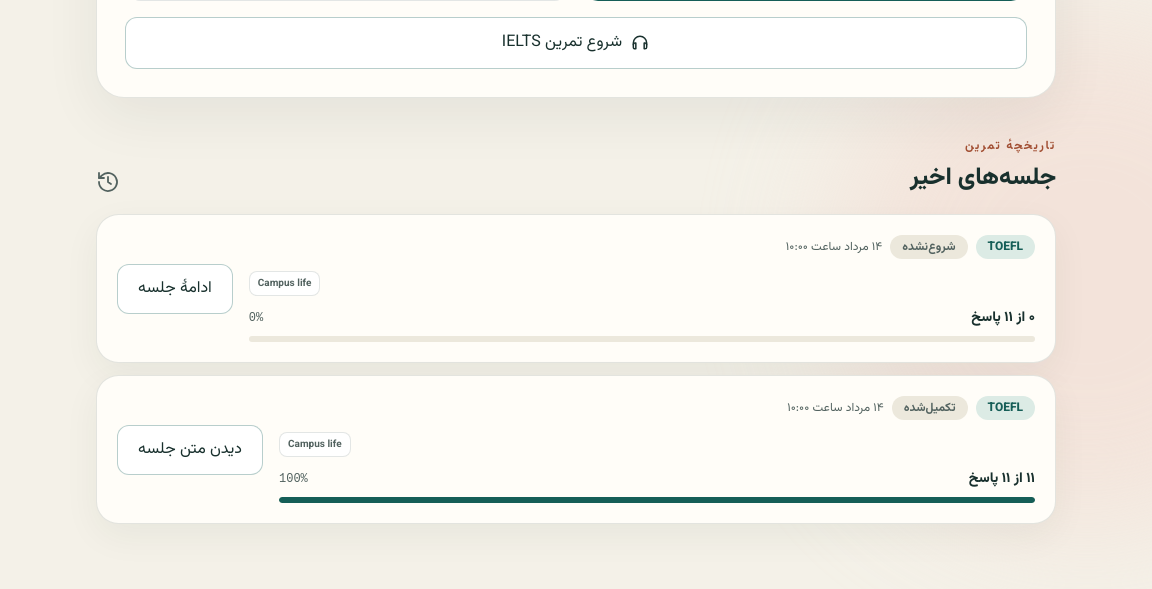
Test: SpeakingPage › resumes in-progress sessions and opens completed text history
The image size is (1152, 589).
(page scrolled)
Click the button "ادامهٔ جلسه" at (175, 288), box [117,264,233,314]
(page scrolled)
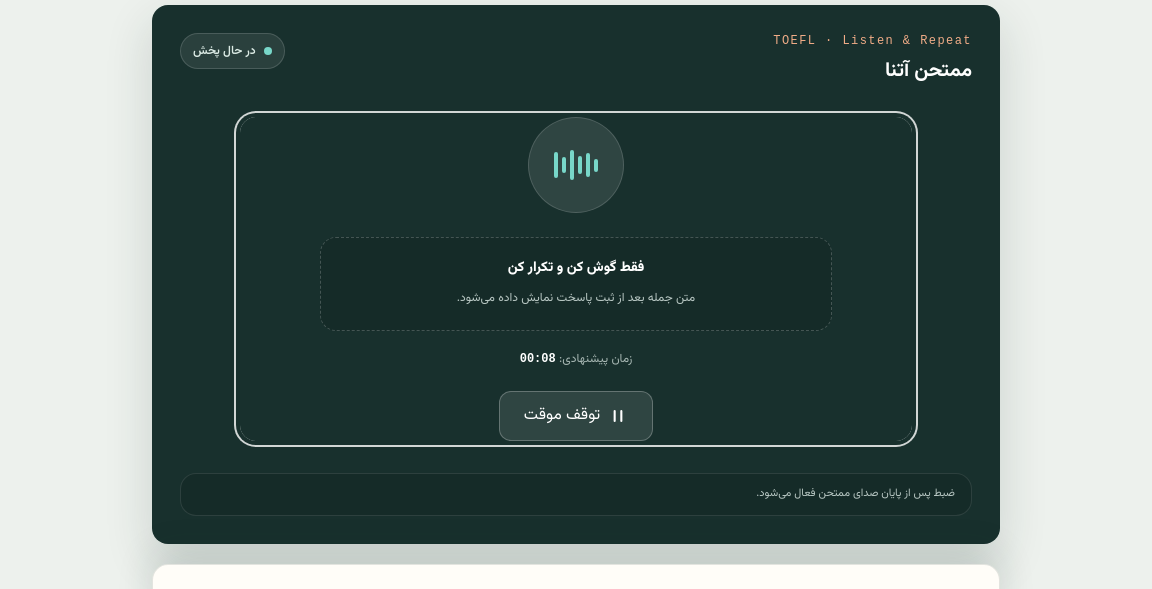
Expected: the text "در حال پخش" is shown, [180,33,285,69]
